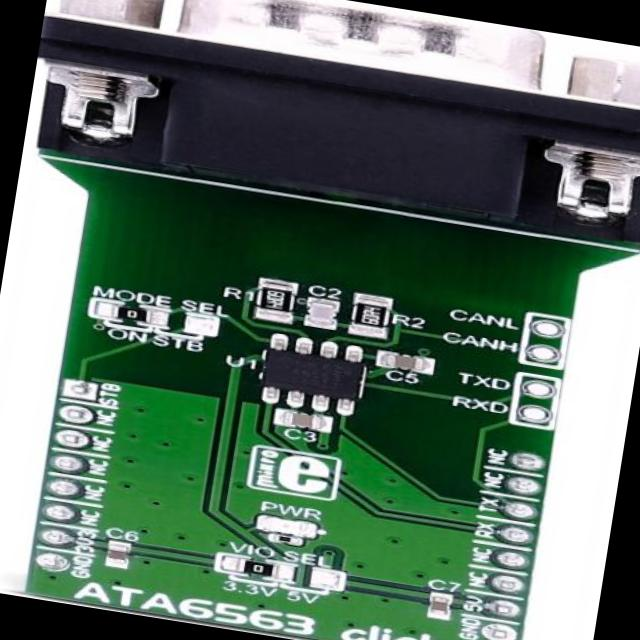IC: (258, 336, 366, 414)
LED: (260, 516, 323, 537)
capacitor: (306, 298, 346, 332), (381, 352, 435, 374), (106, 544, 136, 569), (428, 596, 456, 618)
connector: (23, 0, 640, 251)
resistor: (94, 298, 162, 330), (219, 556, 293, 583), (352, 292, 392, 332), (253, 283, 297, 318), (268, 535, 302, 548)
